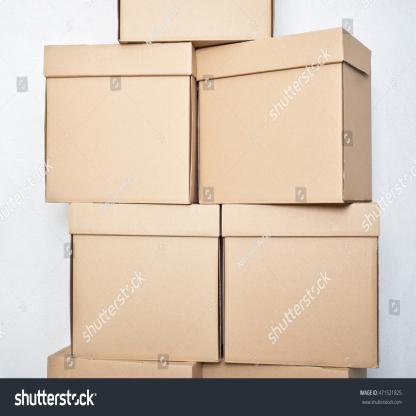box: (224, 203, 378, 367), (43, 44, 192, 202), (196, 40, 341, 202), (71, 203, 215, 363)
